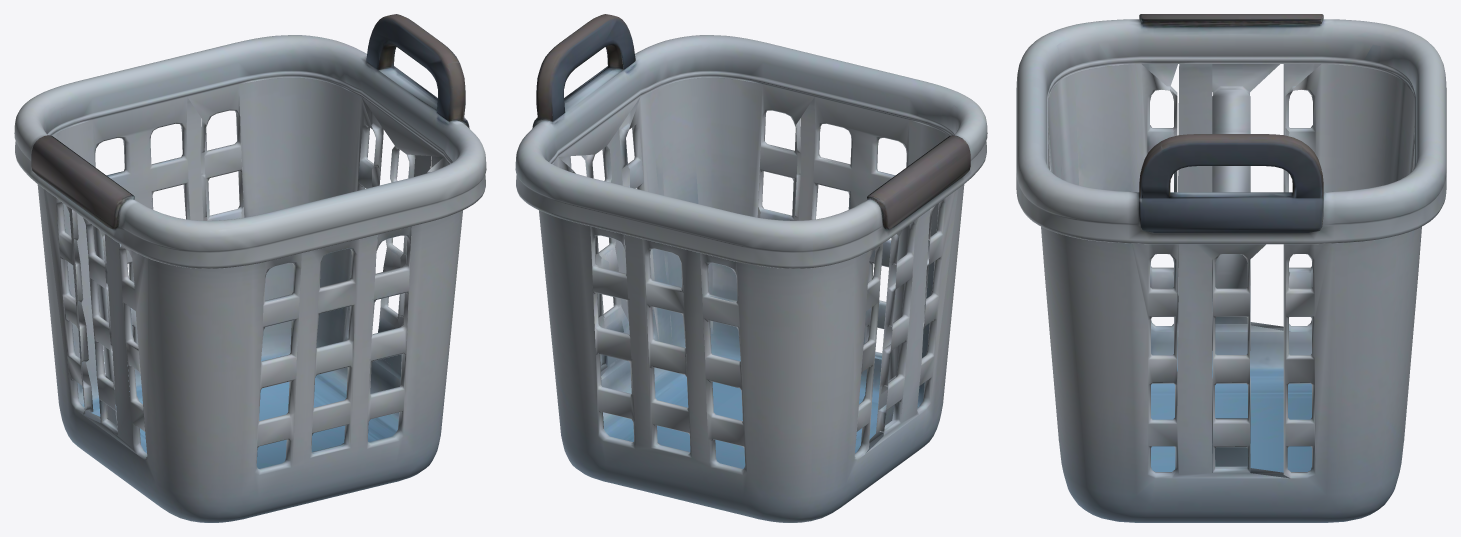
Rendered from a_laundry_basket_315652c4_v3.glb.
3 renders of one model, left to right at view 1: azimuth 30°, elevation 25°; view 2: azimuth 150°, elevation 25°; view 3: azimuth 270°, elevation 25°, orthographic. The views are drawn at different scales.
Visible parts, largest first — view 1: material; view 2: material; view 3: material.
Part boxes in pixels (<box>): material: <box>14,14,486,522</box>; material: <box>515,14,987,522</box>; material: <box>1016,14,1446,522</box>.
Size of the model in its own units: 1.87 by 1.9 by 1.79.
Materials: 1 (1 with a texture image).
